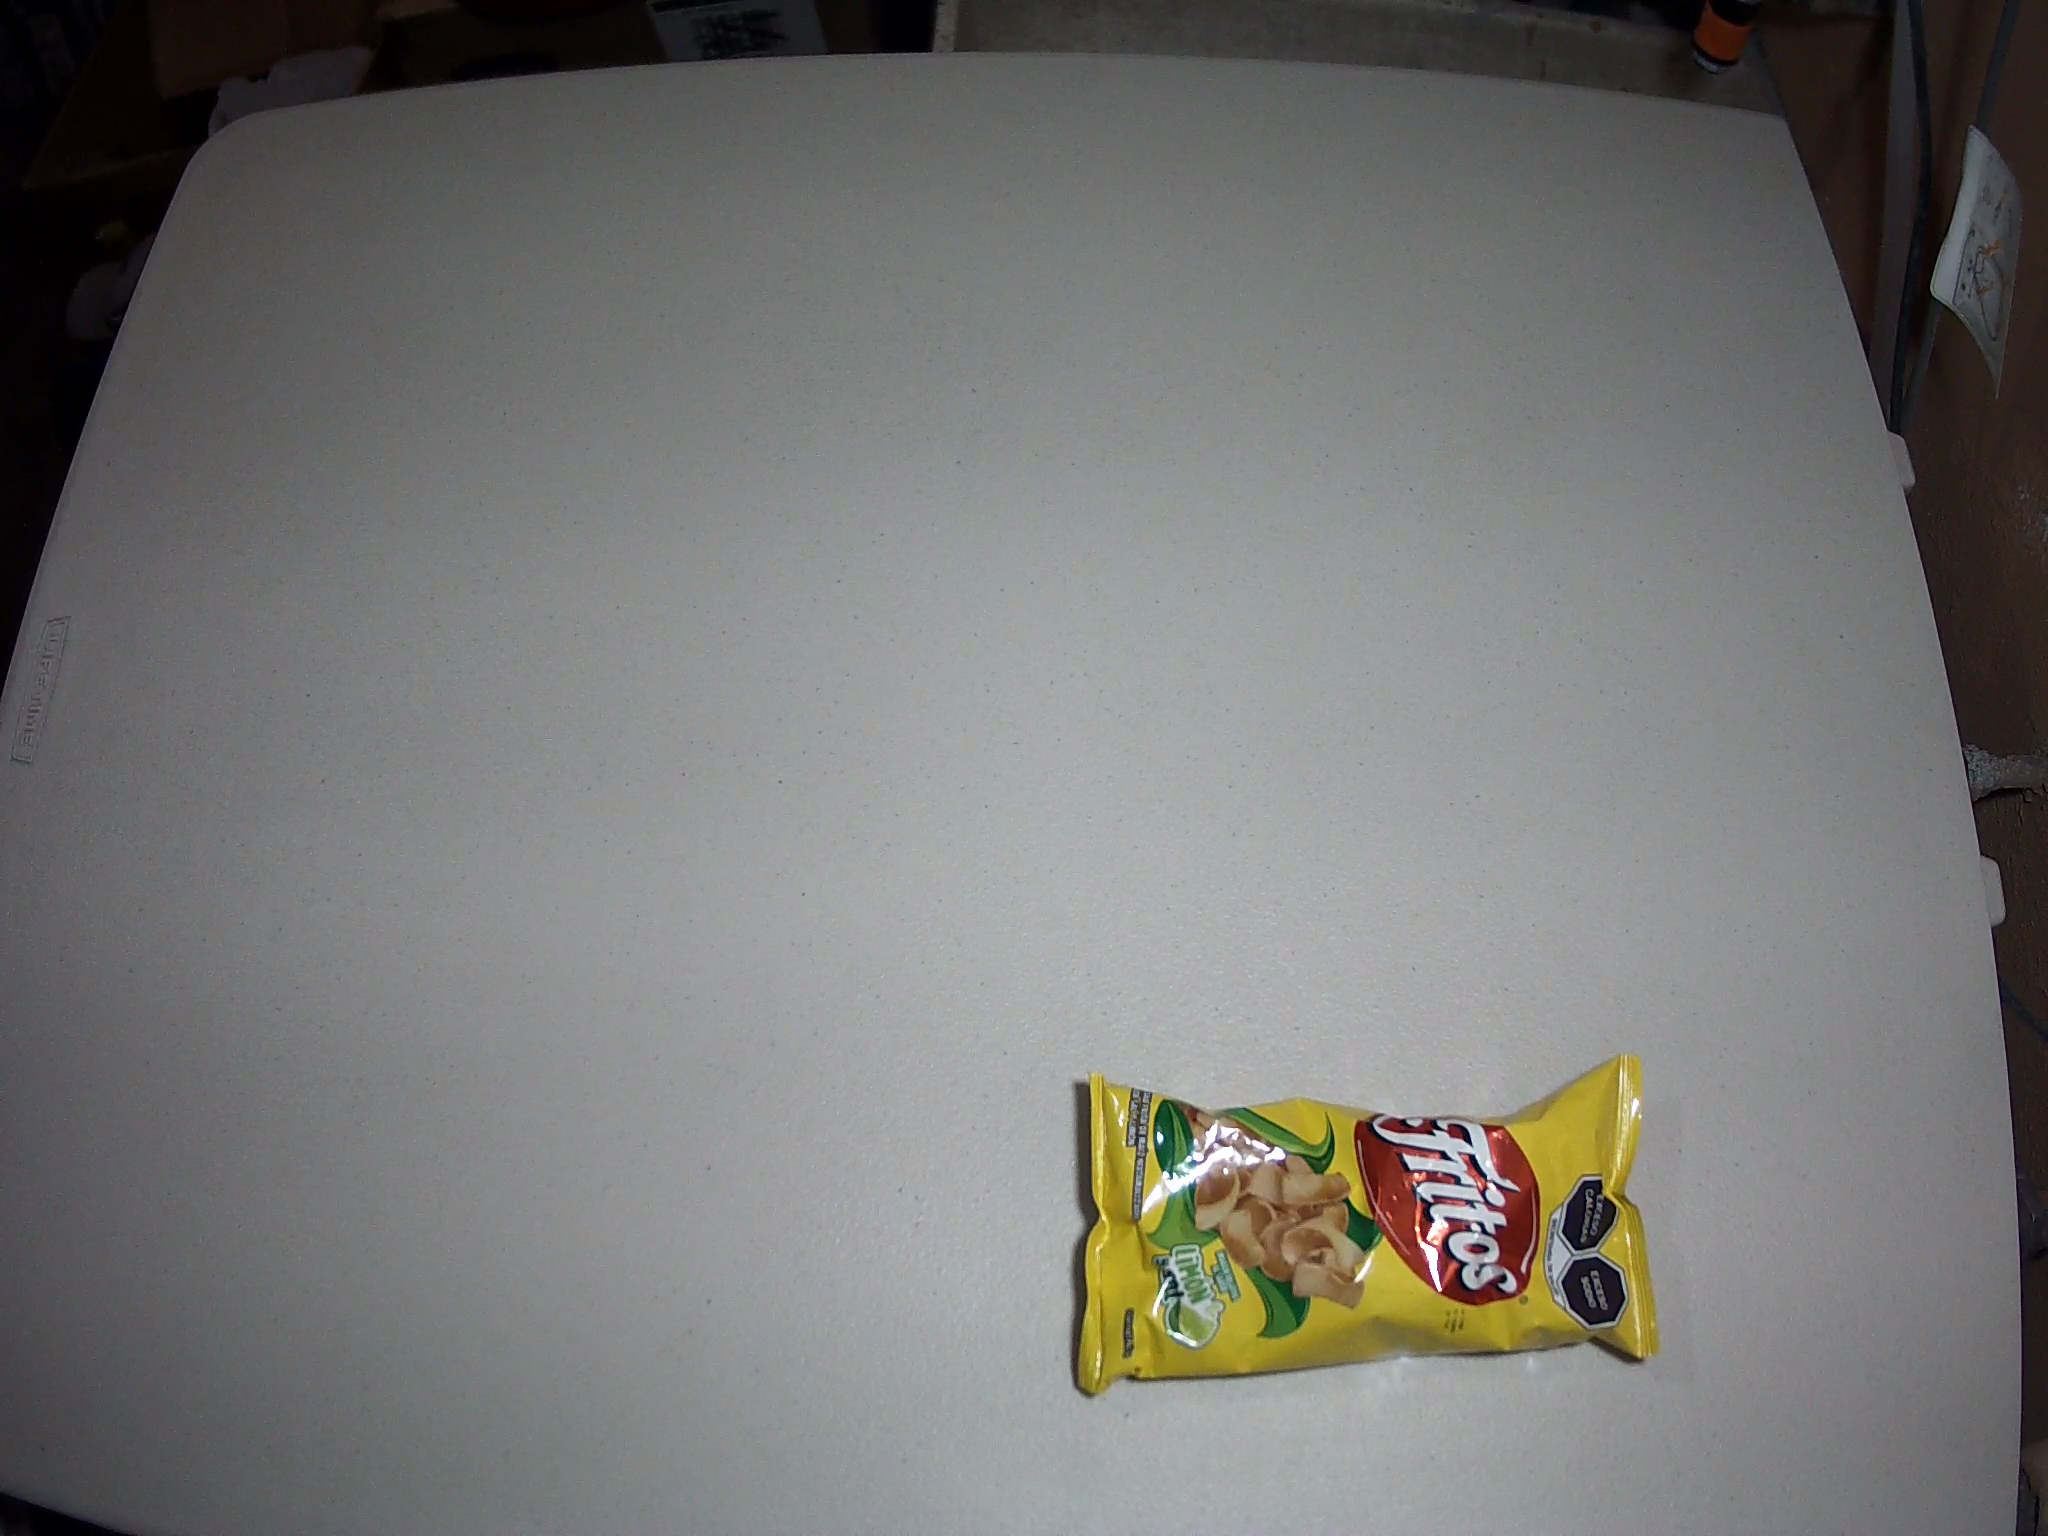FritosSalLimon_65_F: (1072, 1054, 1661, 1397)
